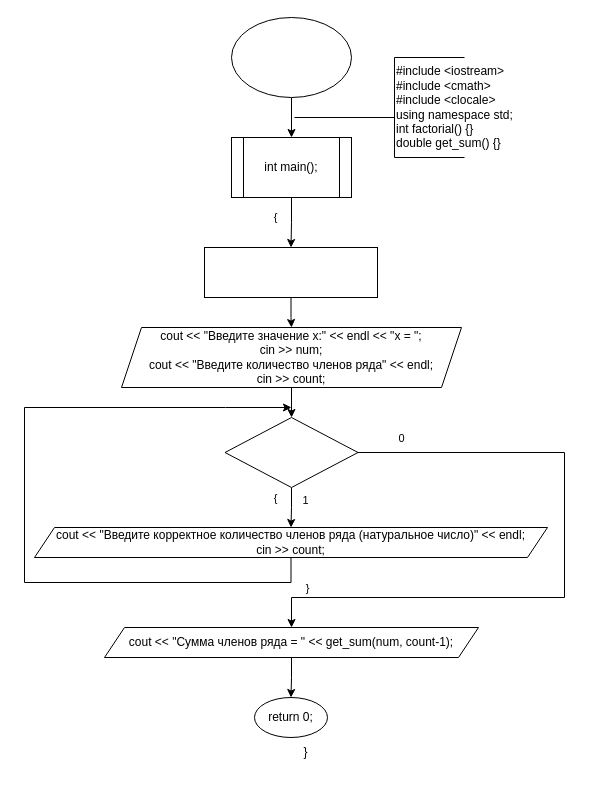
The diagram is 590 pixels wide and 785 high, and some of its shapes have lost their labels. The shapes that lost their labels are listed below. From the top down, each one's centre as x and y in pixels, then its label:
the point at 291,57: Начало
the point at 291,272: setlocale(LC_ALL, "RU"); int count; double num;
the point at 291,452: while (count < 1)
